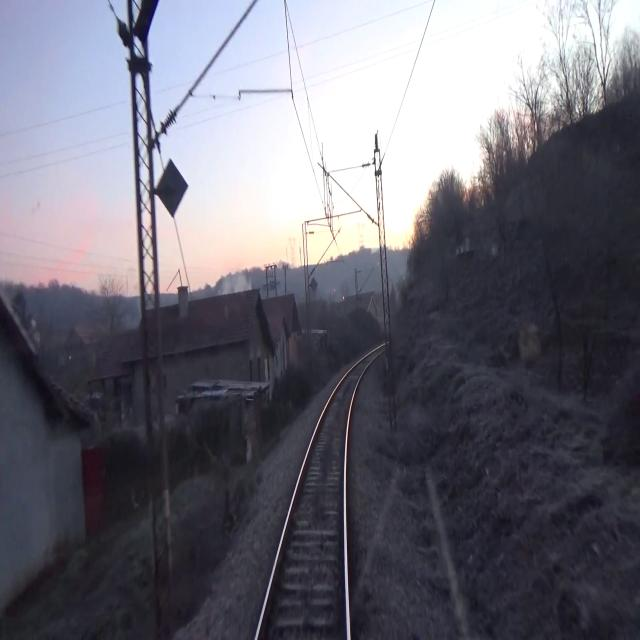rail-track: (259, 351, 378, 639)
